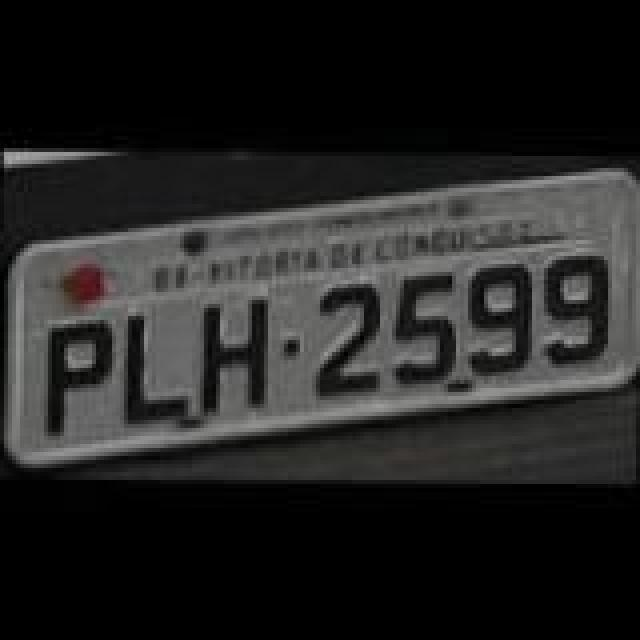2: (308, 278, 396, 398)
5: (384, 270, 464, 386)
9: (534, 250, 618, 374), (460, 260, 540, 384)
H: (200, 290, 280, 422)
L: (120, 306, 200, 426)
P: (42, 318, 114, 442)
